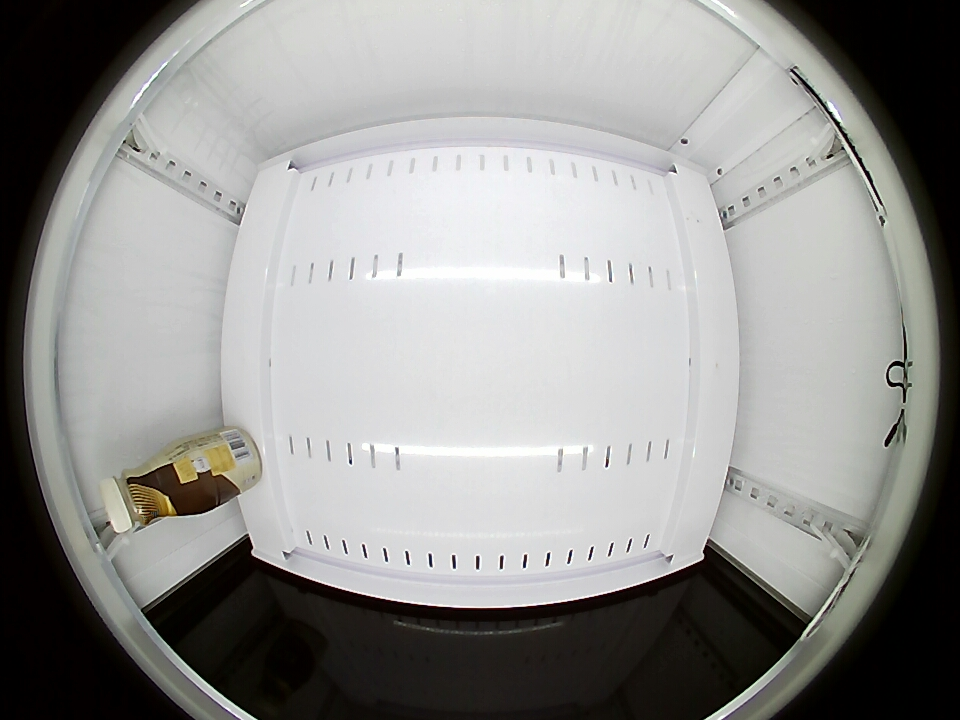kafei: (99, 455, 188, 534)
